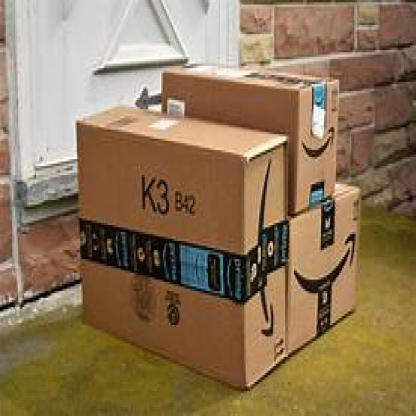package: (76, 100, 294, 398), (161, 64, 341, 219), (286, 182, 363, 368)
